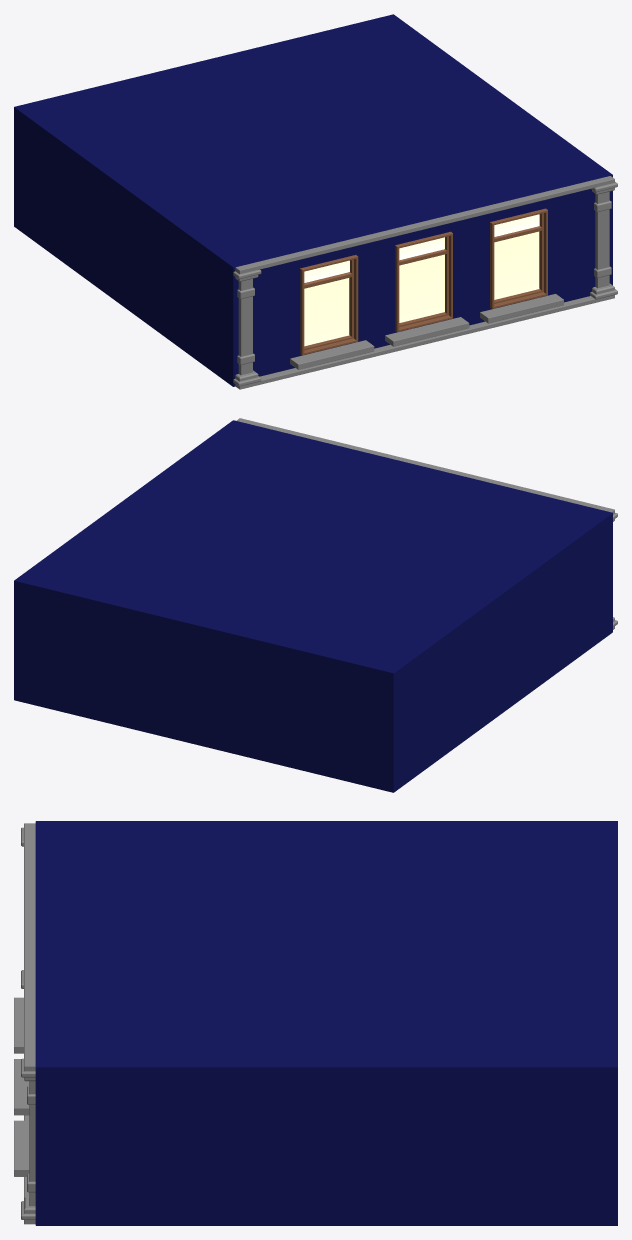
The model's file is Building2 middle.fbx.
The picture shows the model from 3 angles, top to bottom: view 1: azimuth 30°, elevation 25°; view 2: azimuth 150°, elevation 25°; view 3: azimuth 270°, elevation 25°; orthographic projection. The views are drawn at different scales.
Parts seen in each view (by area): view 1: MIDDLE BUILDING 1 MIDDLE; view 2: MIDDLE BUILDING 1 MIDDLE; view 3: MIDDLE BUILDING 1 MIDDLE.
Part boxes in pixels (x1,y1,x2,y2): MIDDLE BUILDING 1 MIDDLE: (14,14,617,389); MIDDLE BUILDING 1 MIDDLE: (14,418,617,792); MIDDLE BUILDING 1 MIDDLE: (14,821,617,1225).
Size of the model in its own units: 1000 by 301 by 1037.
